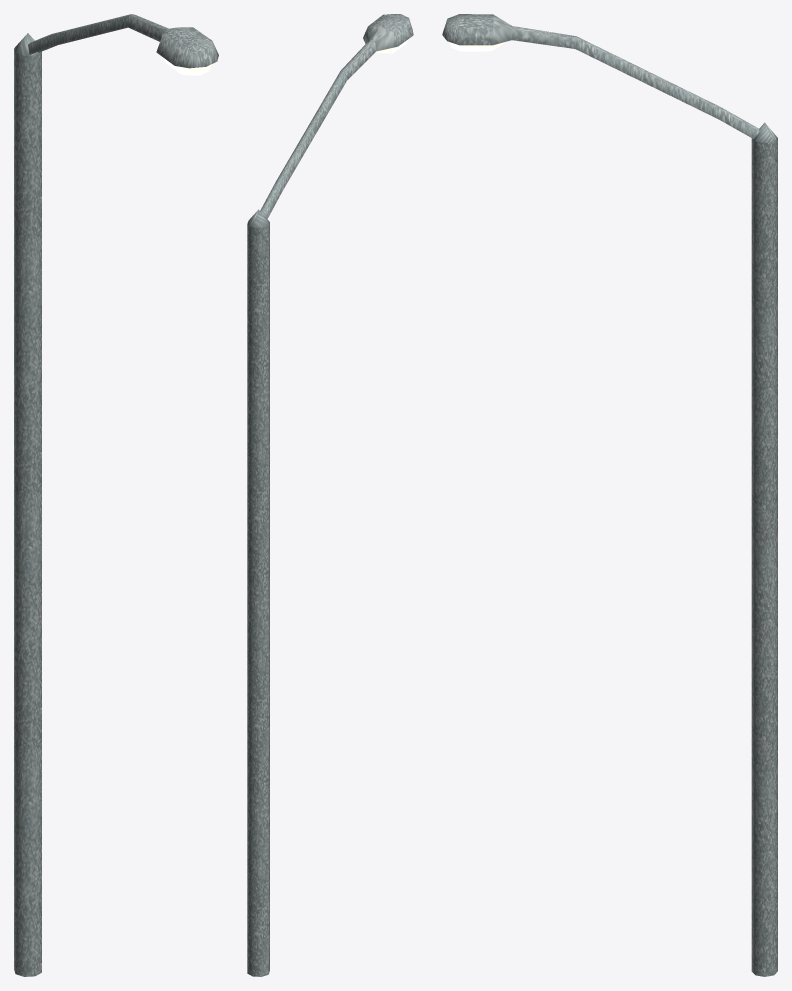
The model's file is lamp.glb.
3 renders of one model, left to right at view 1: azimuth 30°, elevation 25°; view 2: azimuth 150°, elevation 25°; view 3: azimuth 270°, elevation 25°, orthographic. The views are drawn at different scales.
Visible parts, largest first — view 1: lamp; view 2: lamp; view 3: lamp.
Boxes of the visible parts, x1=… form: lamp: x1=14, y1=14, x2=218, y2=976; lamp: x1=247, y1=14, x2=413, y2=976; lamp: x1=442, y1=14, x2=777, y2=976.
Bounding box in the file's own units: 0.4878 × 11.09 × 3.54.
2 materials, 1 textured.
